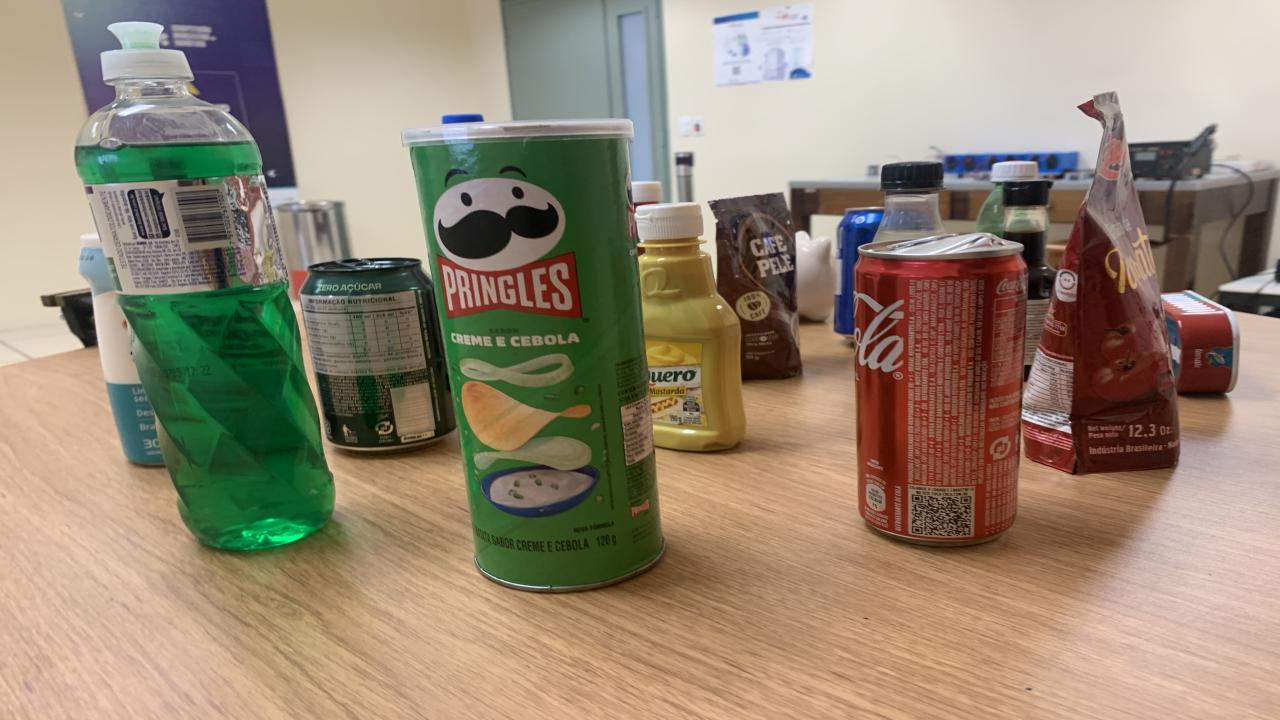Cleaner-Cleanup_Items: (78, 232, 162, 465)
Coffee-Pantry_Items: (708, 193, 802, 379)
Coke-Drinks: (855, 234, 1028, 542)
Detergent-Cleanup_Items: (75, 22, 335, 549)
English_Sauce-Pantry_Items: (1002, 180, 1055, 379)
Guarana-Drinks: (975, 161, 1038, 238)
Guarana_Can-Drinks: (300, 257, 455, 452)
Ketchup-Pantry_Items: (632, 182, 662, 214), (638, 246, 645, 255)
Mustard-Pantry_Items: (635, 202, 745, 452)
Pringles-Snacks: (402, 120, 665, 591)
Soda-Drinks: (872, 161, 945, 242)
Tomato_Sauce-Pantry_Items: (1022, 92, 1180, 474)
Tonic-Drinks: (835, 206, 885, 336)
Tuna_Can-Pantry_Items: (1162, 291, 1240, 394)
